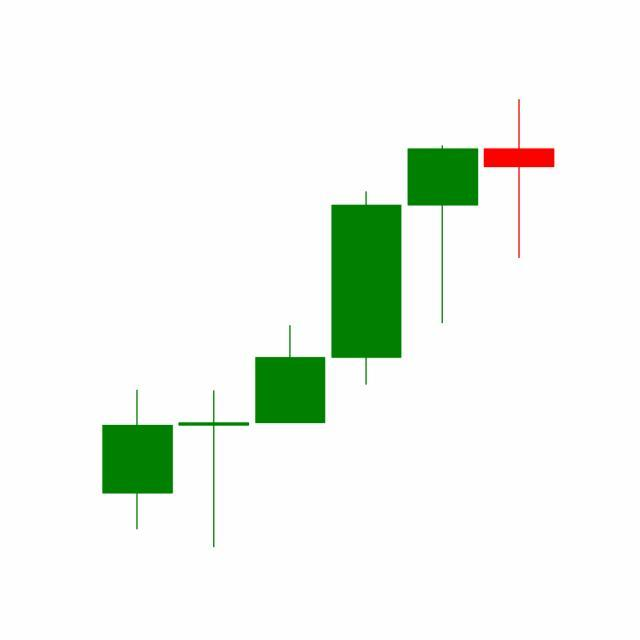Hanging Man: (404, 144, 482, 327)
